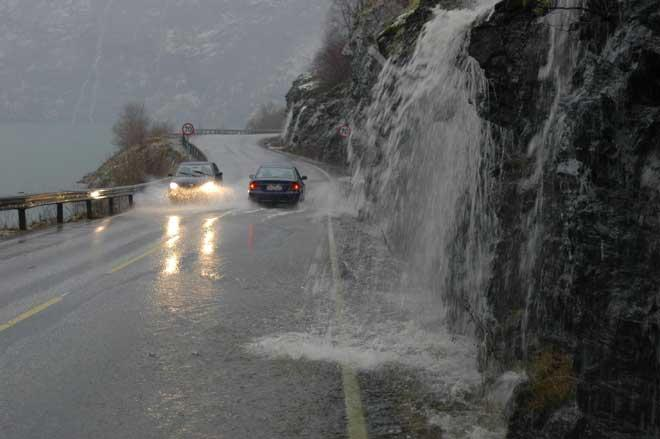car: (246, 163, 309, 211), (166, 161, 223, 204)
